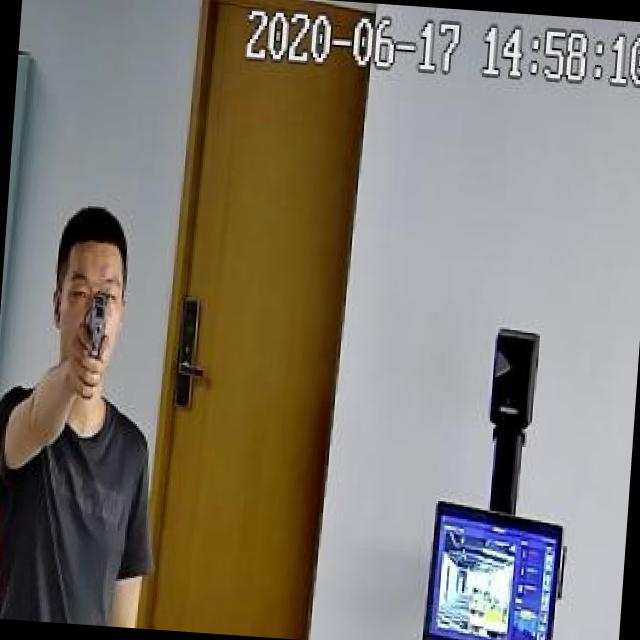Guns: (68, 282, 123, 383)
